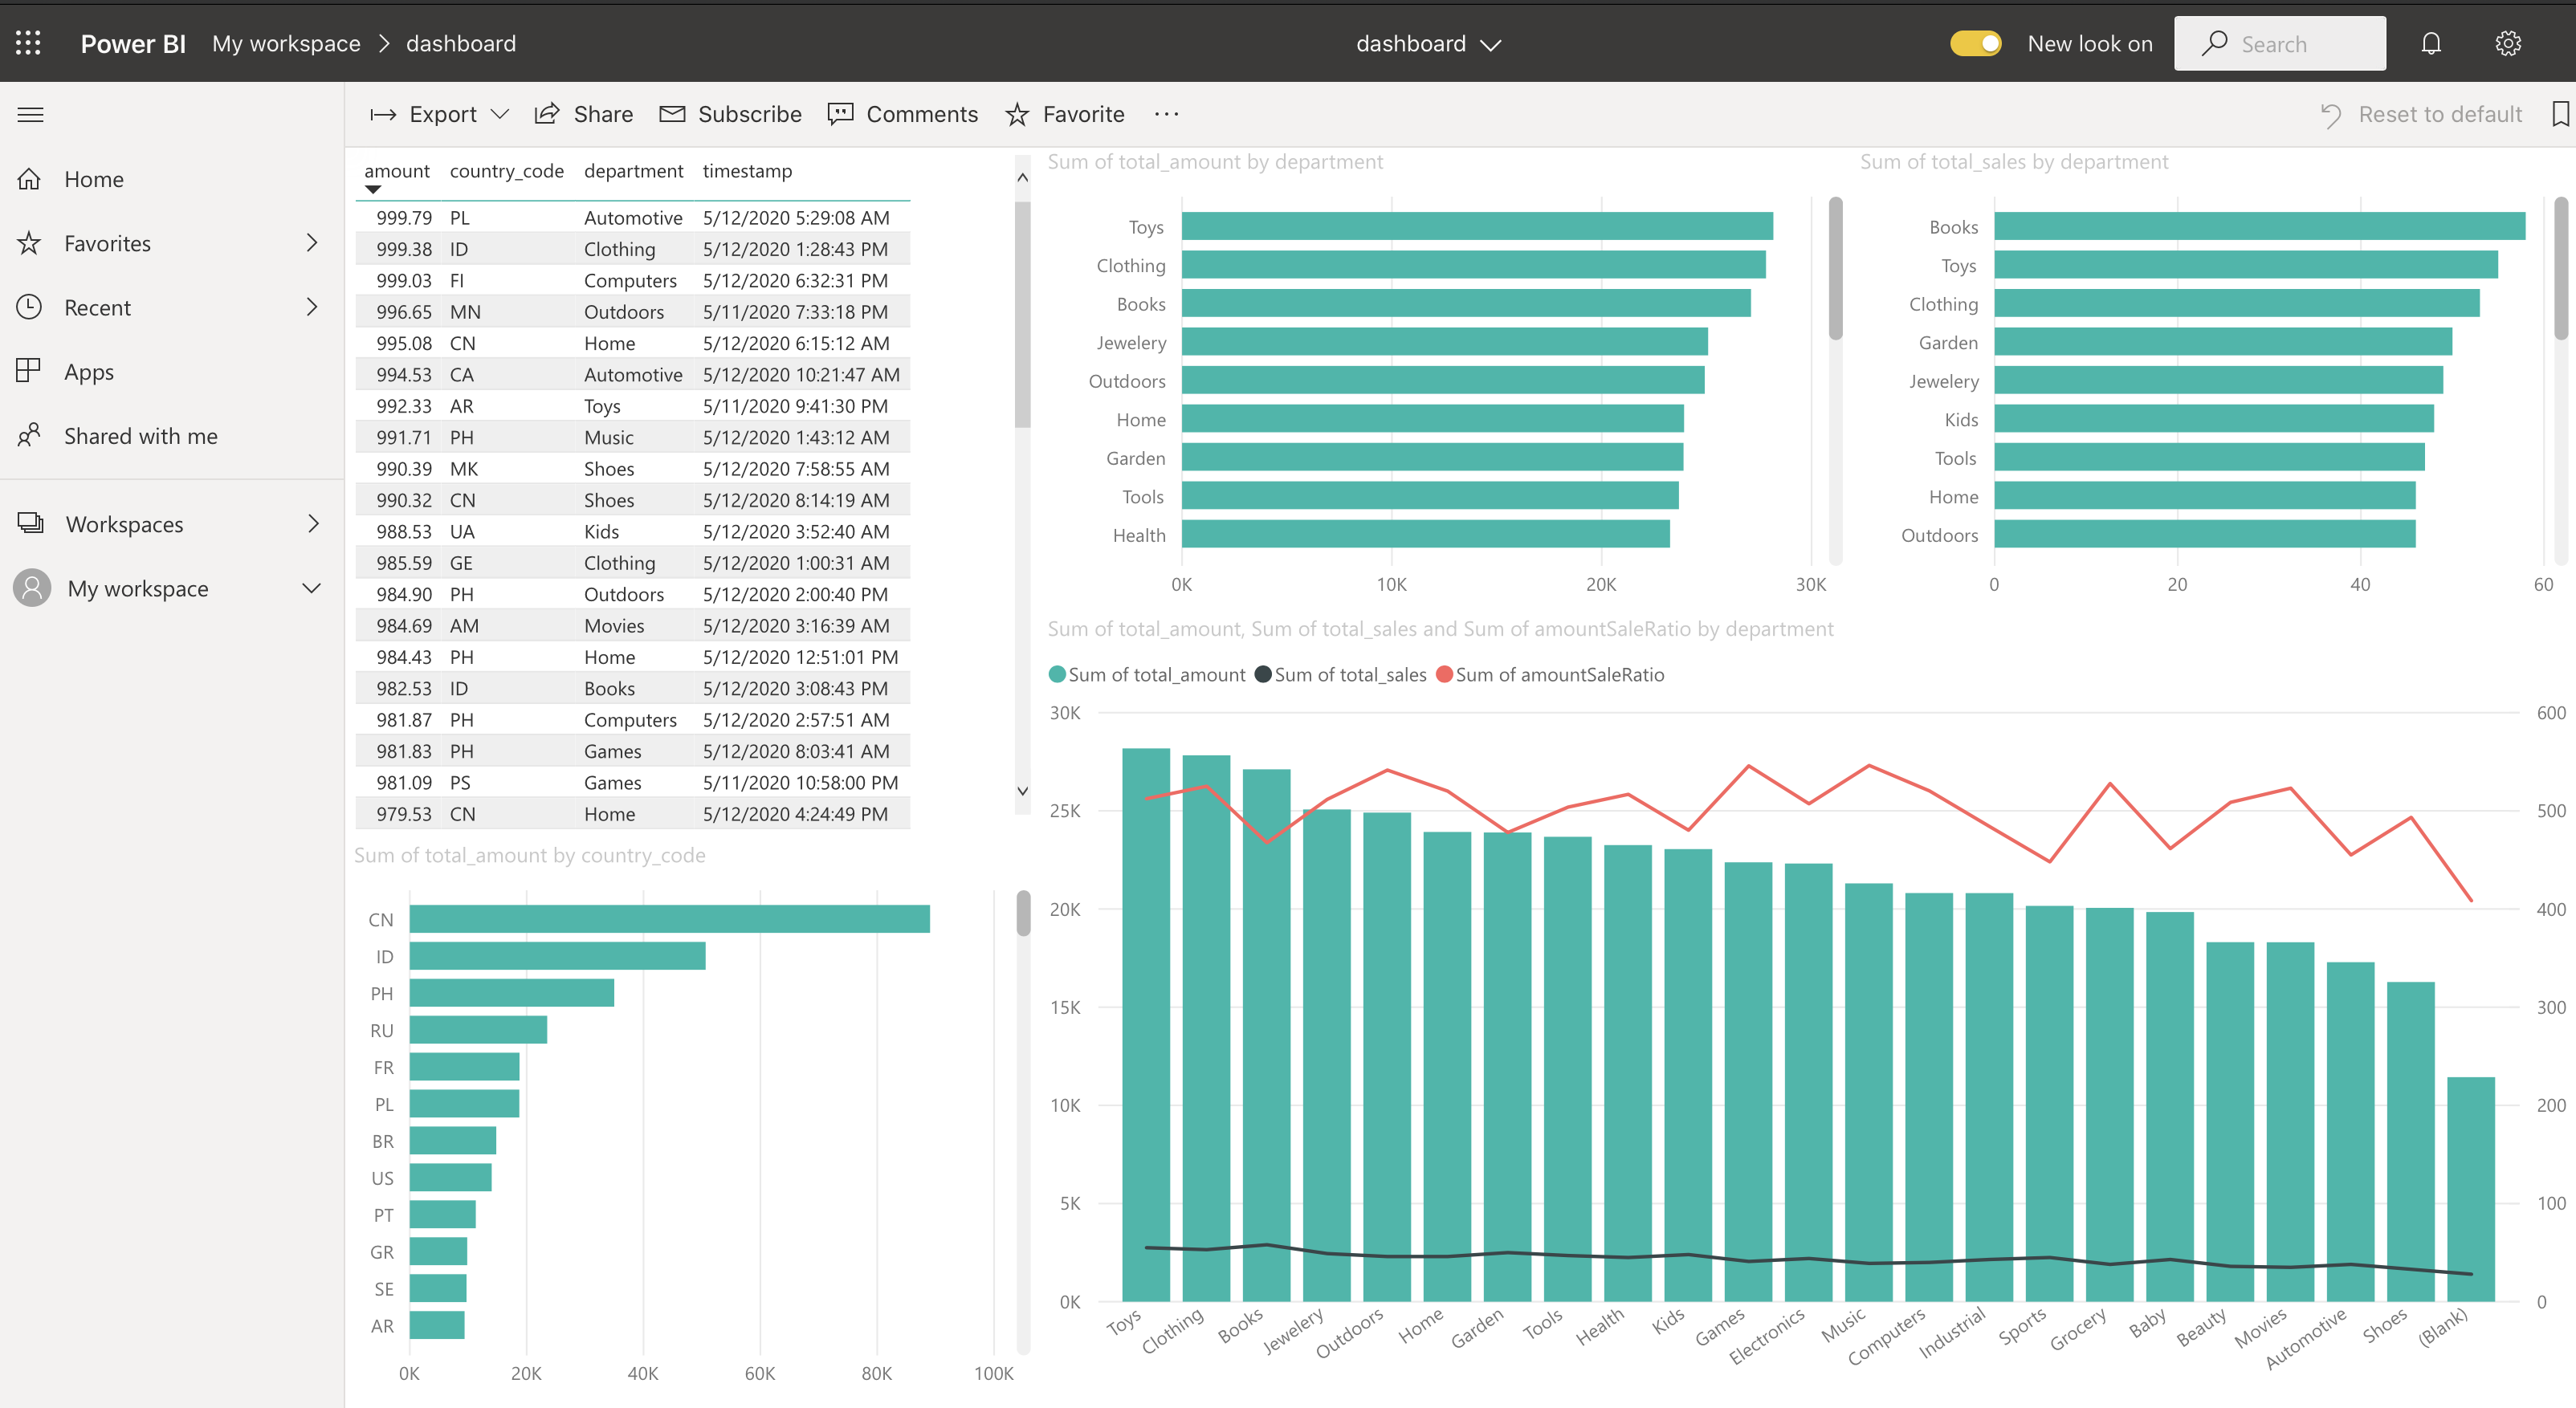

Layout of this report page (visuals, bound fields, positions):
{"tool":"powerbi","page":{"name":"Page 1","canvas":[1280,720],"ordinal":0},"visuals":[{"type":"barChart","fields":{"Y":["Sum(topSalesDepartmentsLast30Days.total_sales)"],"Category":["topSalesDepartmentsLast30Days.department"]},"box":[864,0,416,267.8],"z":0},{"type":"barChart","fields":{"Category":["topGrossingDepartmentsLast30Days.department"],"Y":["Sum(topGrossingDepartmentsLast30Days.total_amount)"]},"box":[398,0,466,267.8],"z":1},{"type":"barChart","fields":{"Y":["Sum(topGrossingCountriesLast30Days.total_amount)"],"Category":["topGrossingCountriesLast30Days.country_code"]},"box":[0,397.5,398,322.8],"z":2},{"type":"lineStackedColumnComboChart","fields":{"Category":["highestAmountPerSaleDepartmentsLast30Days.department"],"Y":["Sum(highestAmountPerSaleDepartmentsLast30Days.total_amount)"],"Y2":["Sum(highestAmountPerSaleDepartmentsLast30Days.total_sales)","Sum(highestAmountPerSaleDepartmentsLast30Days.amountSaleRatio)"]},"box":[398,267.8,882,452.5],"z":3},{"type":"tableEx","fields":{"Values":["highestAmountsLastWeek.amount","highestAmountsLastWeek.country_code","highestAmountsLastWeek.department","highestAmountsLastWeek.timestamp"]},"box":[0,0,398,397.5],"z":4}]}

Visuals, with their boxes on the page's 1280x720 design canvas (x1, y1, x2, y2). These are canvas units, not pixel positions in the 2576x1408 screenshot, which may show the page scaled, cropped or inside an application window:
barChart - Sum(topSalesDepartmentsLast30Days.total_sales) x topSalesDepartmentsLast30Days.department: select_region(864, 0, 1280, 268)
barChart - topGrossingDepartmentsLast30Days.department x Sum(topGrossingDepartmentsLast30Days.total_amount): select_region(398, 0, 864, 268)
barChart - Sum(topGrossingCountriesLast30Days.total_amount) x topGrossingCountriesLast30Days.country_code: select_region(0, 398, 398, 720)
lineStackedColumnComboChart - highestAmountPerSaleDepartmentsLast30Days.department x Sum(highestAmountPerSaleDepartmentsLast30Days.total_amount): select_region(398, 268, 1280, 720)
tableEx - highestAmountsLastWeek.amount x highestAmountsLastWeek.country_code: select_region(0, 0, 398, 398)
